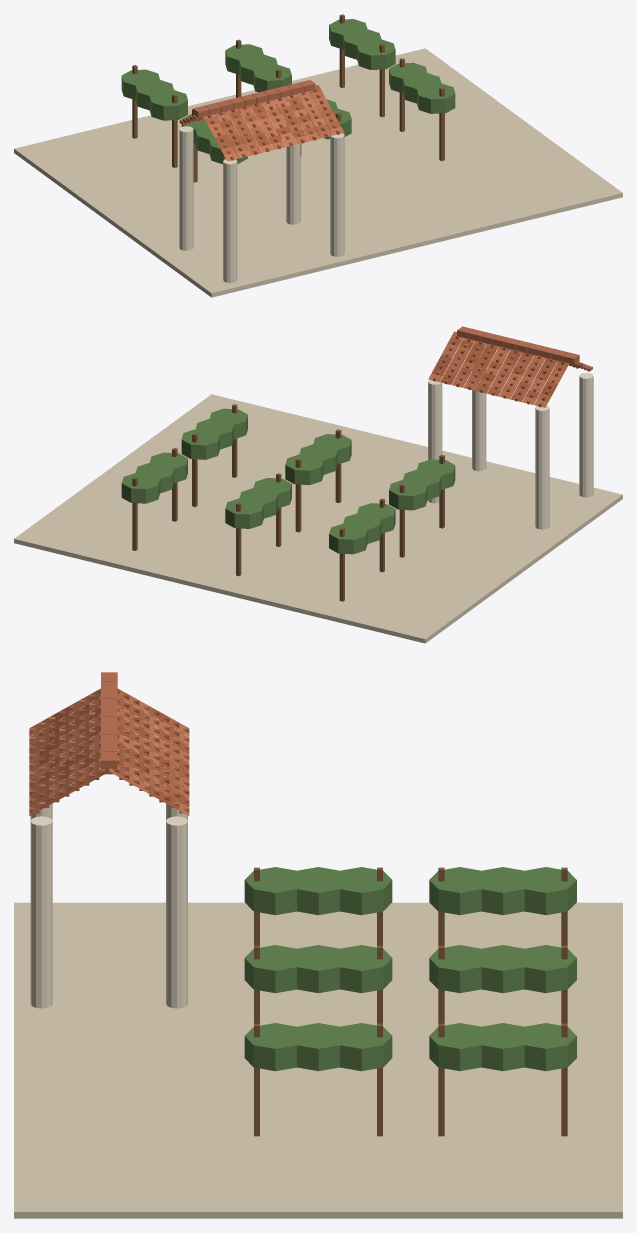
The picture shows the model from 3 angles, top to bottom: view 1: azimuth 30°, elevation 25°; view 2: azimuth 150°, elevation 25°; view 3: azimuth 270°, elevation 25°; orthographic projection. The views are drawn at different scales.
Parts seen in each view (by area): view 1: Bergfried – Steine, Säulen, Ziegel und Feuerstelle; view 2: Bergfried – Steine, Säulen, Ziegel und Feuerstelle; view 3: Bergfried – Steine, Säulen, Ziegel und Feuerstelle.
Part boxes in pixels (bbox=[...]): Bergfried – Steine, Säulen, Ziegel und Feuerstelle: bbox=[14, 14, 622, 297]; Bergfried – Steine, Säulen, Ziegel und Feuerstelle: bbox=[14, 326, 622, 643]; Bergfried – Steine, Säulen, Ziegel und Feuerstelle: bbox=[14, 672, 622, 1218].
Bounding box in the file's own units: 1190 × 445 × 990.
